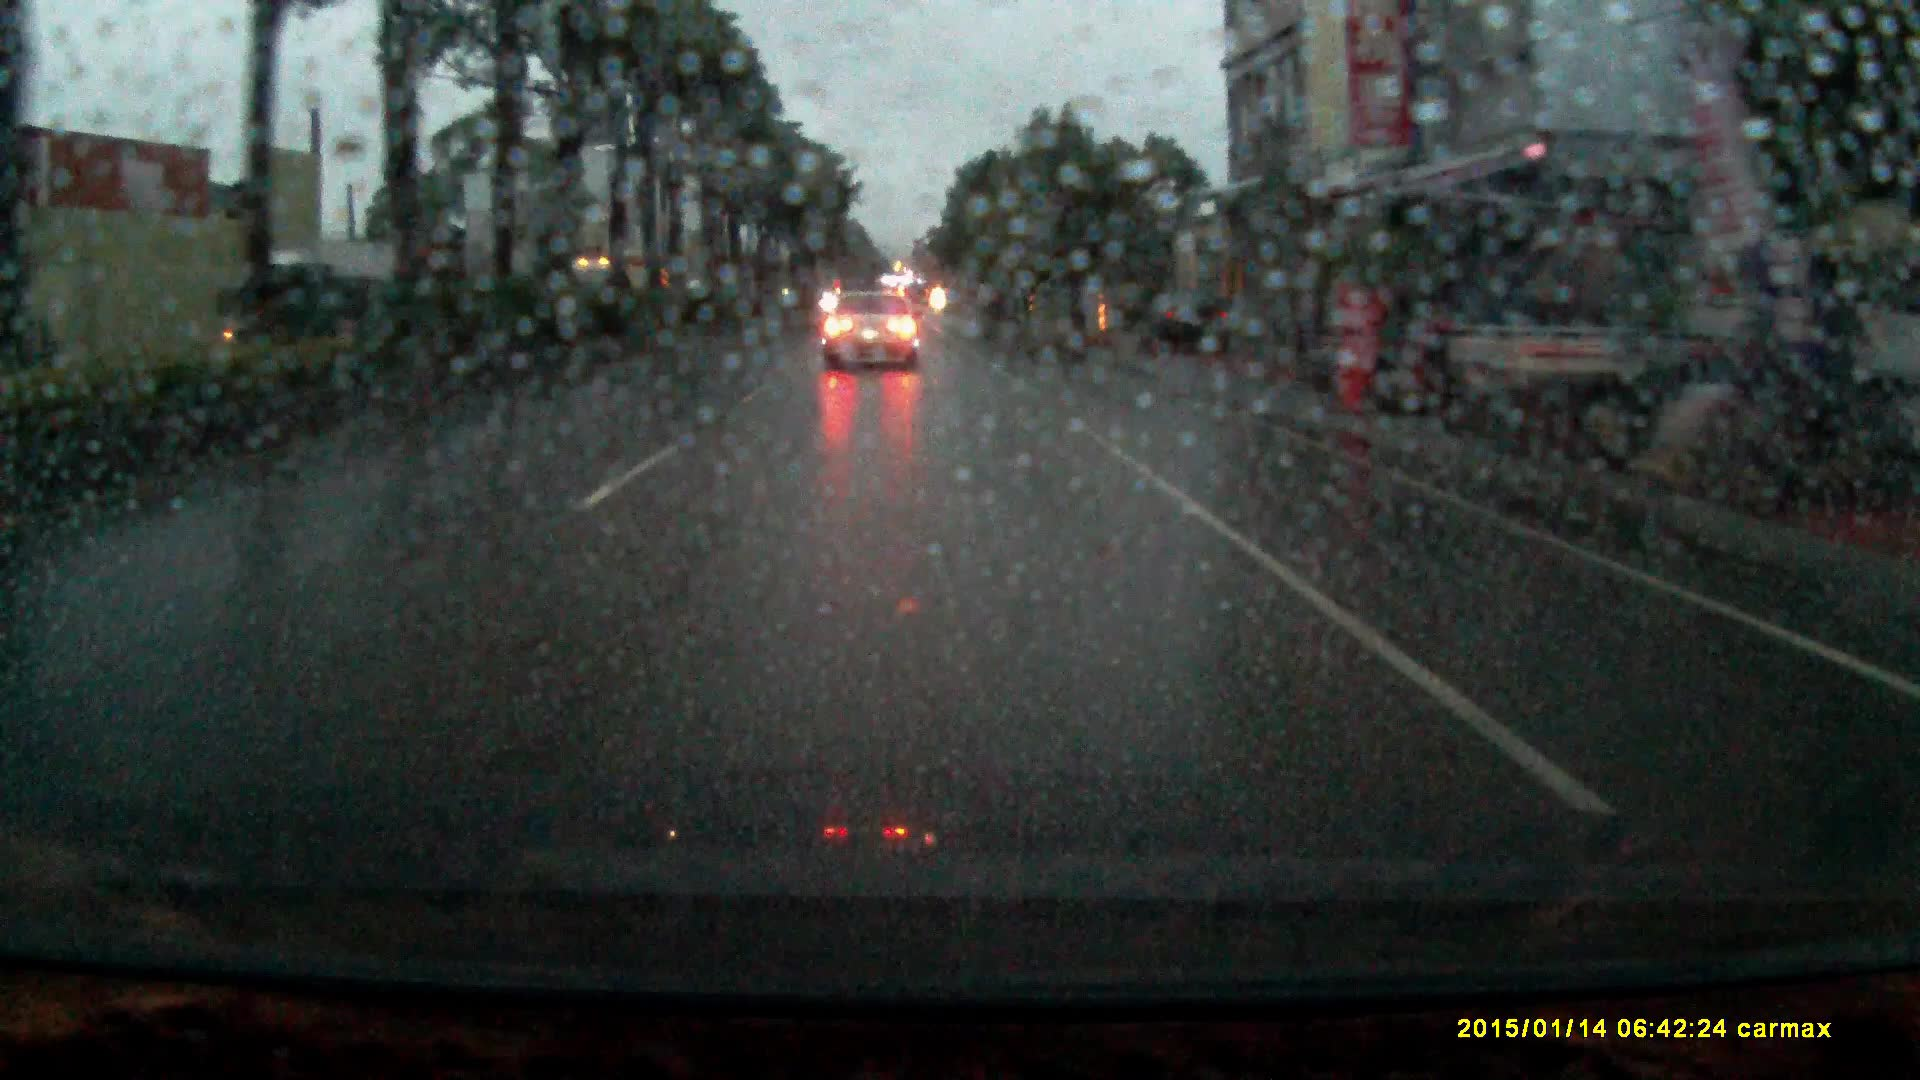vehicle: (222, 247, 409, 359), (823, 293, 923, 378), (1137, 295, 1233, 364), (567, 268, 651, 299)
